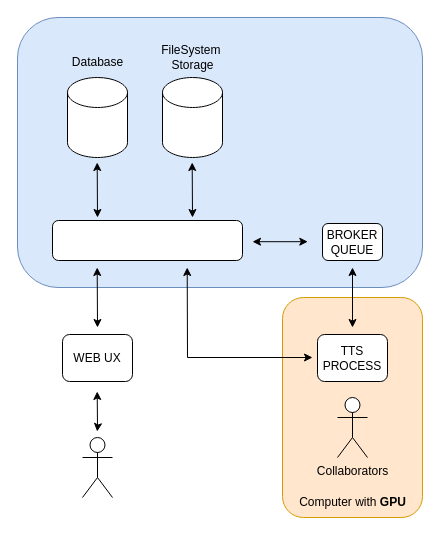
This 440x536 diagram has some shape labels left out. Each missing label, with the centre of its shape:
"API" goes at pixel 147 240.
"Project Admins" goes at pixel 97 467.
